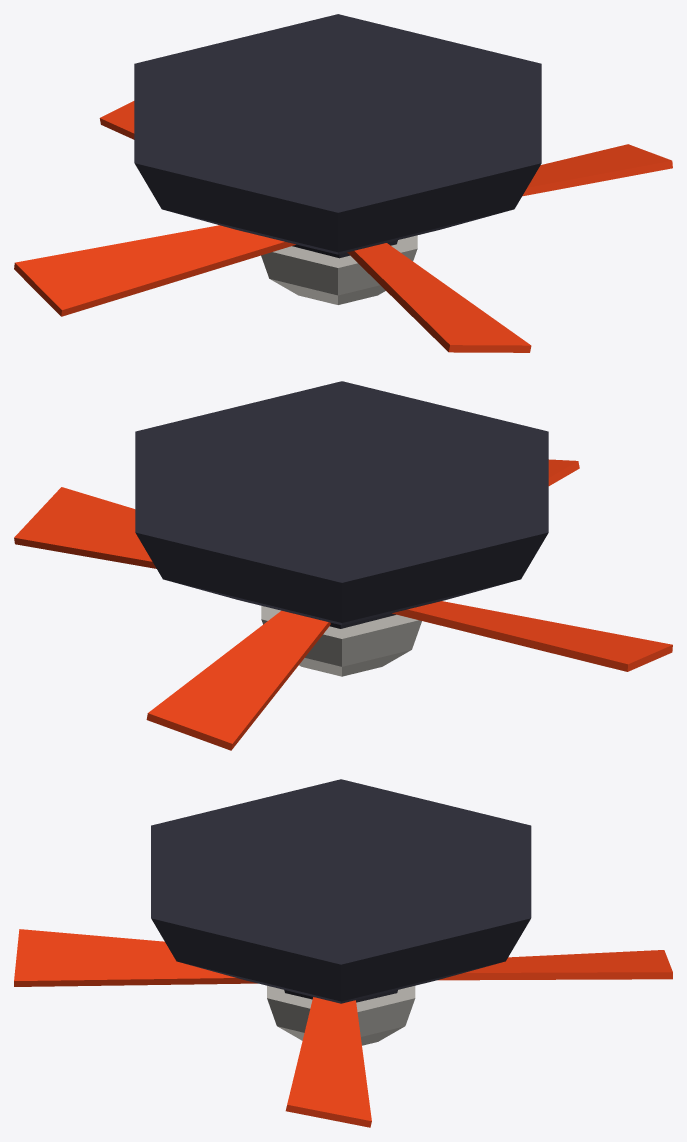
File: Fan.fbx
3 views of the same model, one above another, from view 1: azimuth 30°, elevation 25°; view 2: azimuth 150°, elevation 25°; view 3: azimuth 270°, elevation 25° (orthographic). The views are drawn at different scales.
Visible parts, largest first — view 1: Fan, FanBlade4, FanBlade1, FanLight, FanBlade2, FanBlade3; view 2: Fan, FanBlade3, FanBlade4, FanBlade2, FanLight, FanBlade1; view 3: Fan, FanBlade1, FanBlade2, FanBlade3, FanLight.
Boxes of the visible parts, x1,y1,x2,y2 form: Fan: (134, 14, 541, 254); FanBlade4: (14, 225, 295, 316); FanBlade1: (347, 243, 531, 352); FanLight: (261, 235, 417, 304); FanBlade2: (522, 144, 672, 196); FanBlade3: (99, 101, 134, 139); Fan: (135, 381, 548, 625); FanBlade3: (146, 610, 330, 750); FanBlade4: (392, 601, 672, 671); FanBlade2: (14, 487, 156, 568); FanLight: (261, 606, 421, 676); FanBlade1: (548, 459, 579, 485); Fan: (151, 779, 531, 1003); FanBlade1: (14, 929, 257, 986); FanBlade2: (285, 997, 371, 1127); FanBlade3: (438, 950, 672, 980); FanLight: (267, 985, 415, 1045).
Size of the model in its own units: 1.94 by 0.5519 by 1.95.
